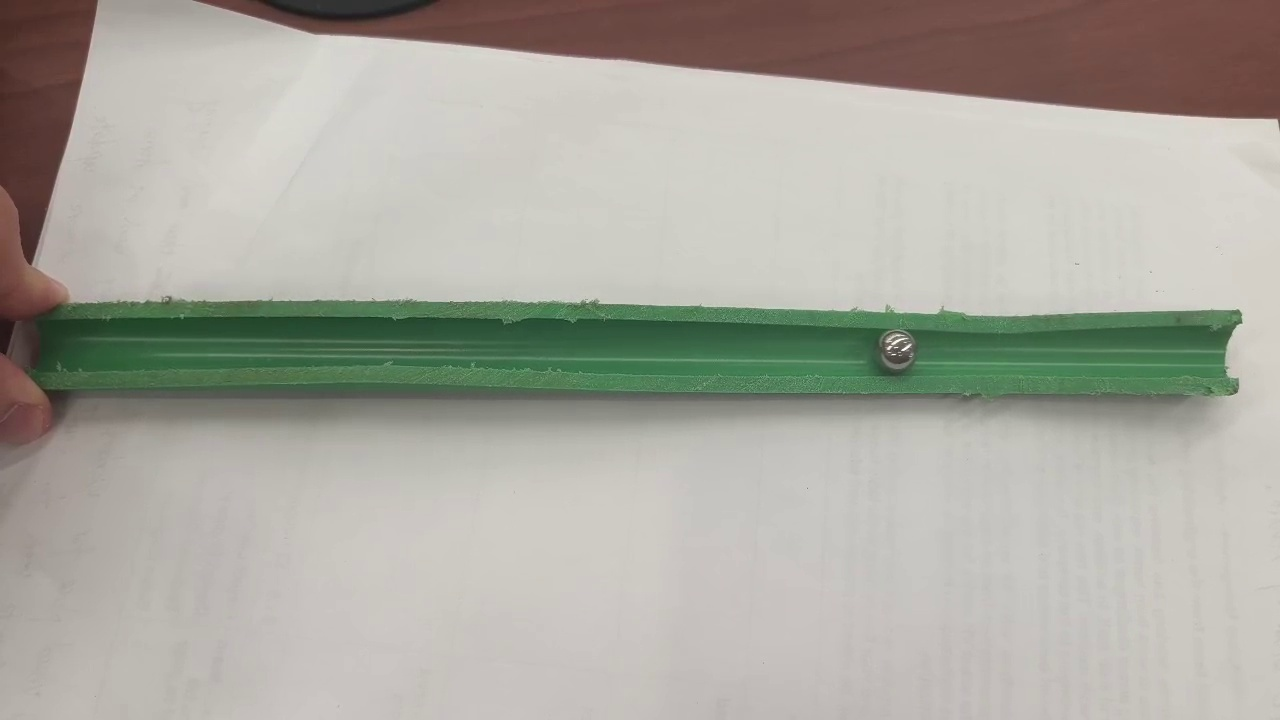ball: (880, 331, 916, 372)
